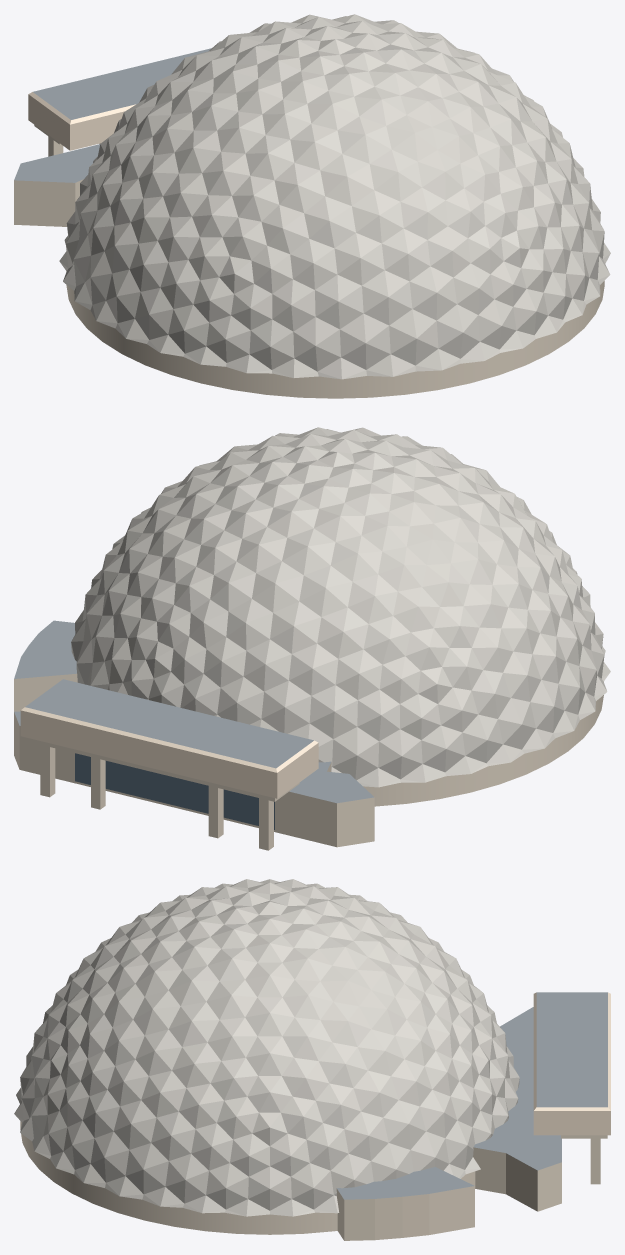
The model's file is detail.glb.
The picture shows the model from 3 angles, top to bottom: view 1: azimuth 30°, elevation 25°; view 2: azimuth 150°, elevation 25°; view 3: azimuth 270°, elevation 25°; orthographic projection. The views are drawn at different scales.
Visible parts, largest first — view 1: cinerama-dome; view 2: cinerama-dome; view 3: cinerama-dome.
Part boxes in pixels (<box>): cinerama-dome: <box>14,14,610,398</box>; cinerama-dome: <box>14,427,610,850</box>; cinerama-dome: <box>14,879,610,1240</box>.
Size of the model in its own units: 45.75 by 22.1 by 52.51.
